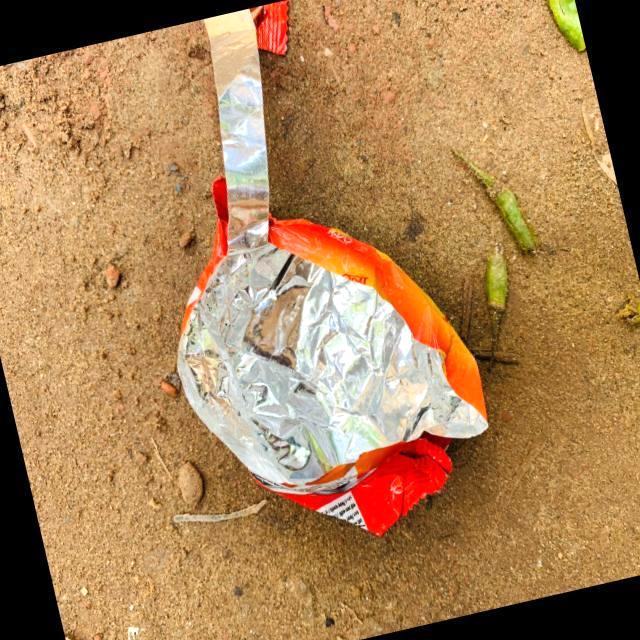packet: (183, 217, 466, 532)
